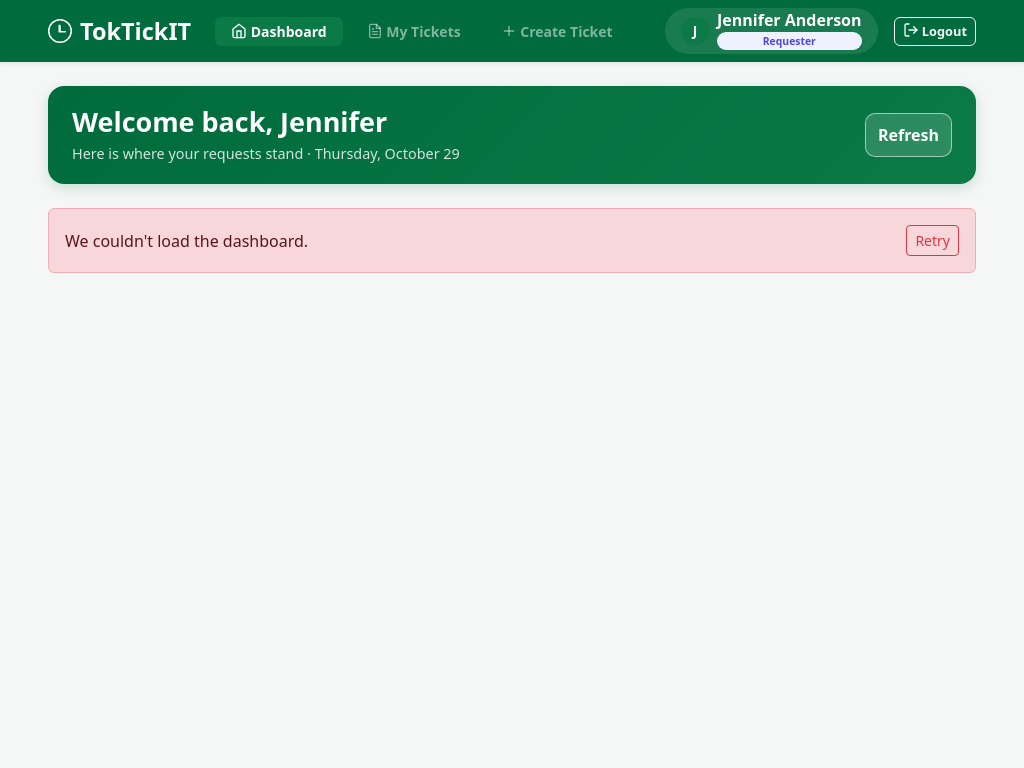
Scenario: Lab 2 UI Tests (Issue 3 & Issue 5 - Development Requester & Create Ticket) › UI-05: double-clicking Submit Ticket creates exactly one ticket (no duplicate request)
This screenshot has width=1024, height=768.
Check: the text "Jennifer Anderson" is shown, box [717,12,862,28]
Check: the button "Logout" is shown, box [894,17,976,46]
Click the button "My Tickets" at (414, 31), box [351,17,477,46]
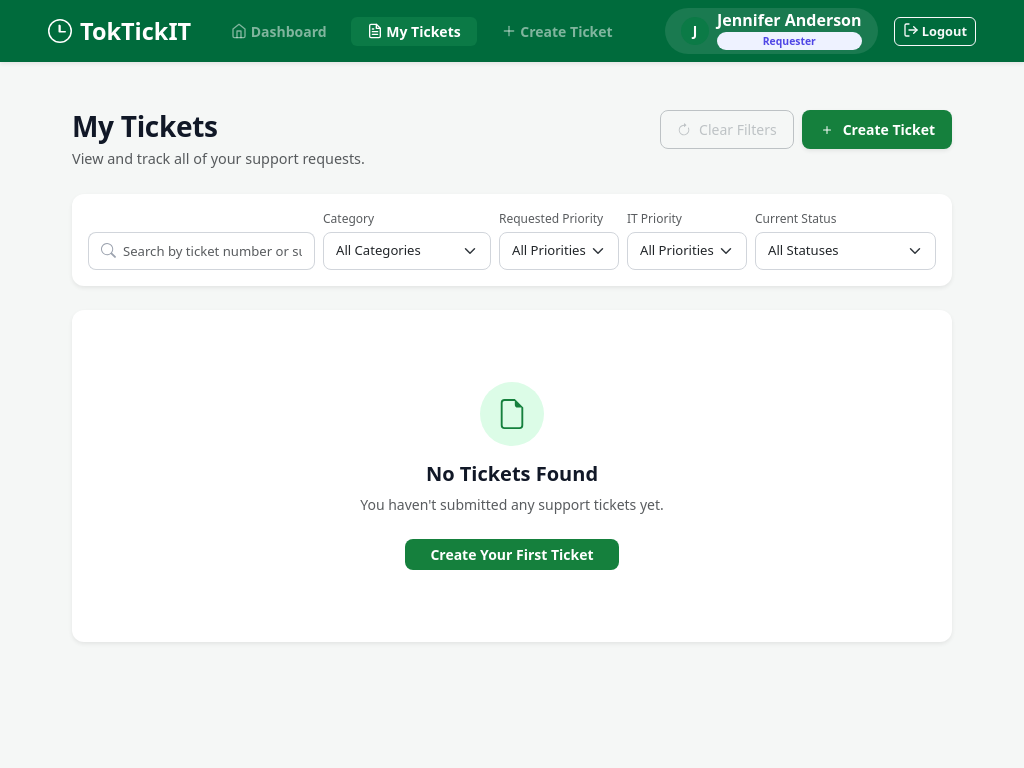
Check: the 2nd button "Create Ticket" is shown
Click the 2nd button "Create Ticket" at (877, 130), box [802,110,952,149]
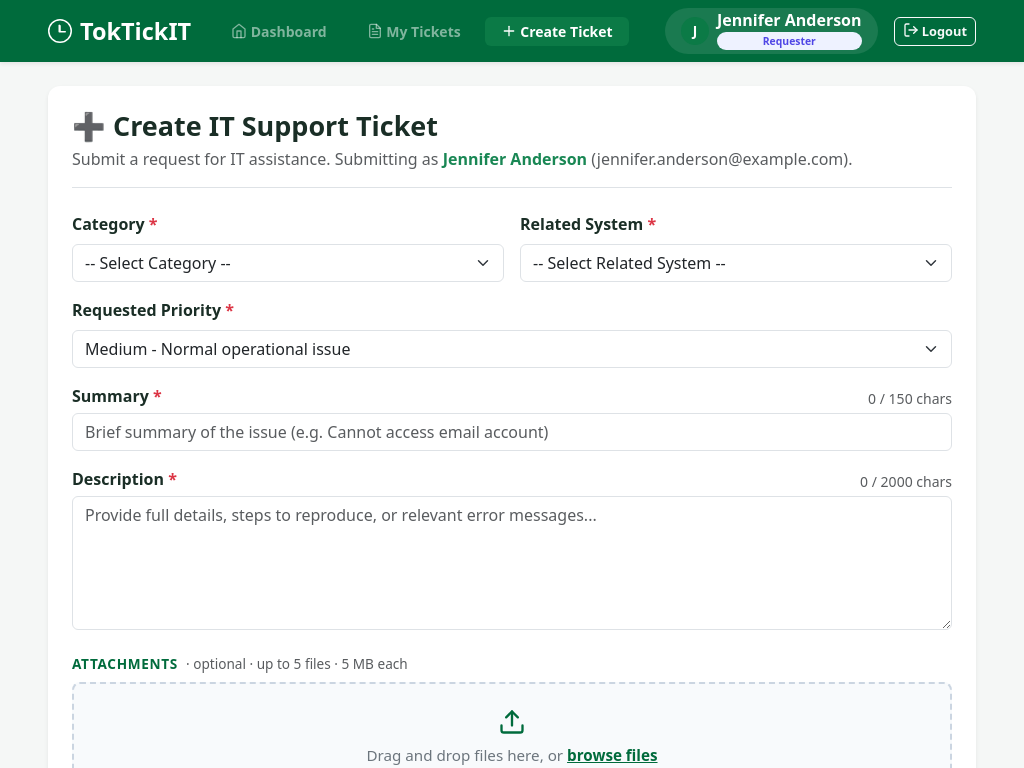
Check: the dropdown labelled "Category *" is shown
Select "Account and Access" in the dropdown labelled "Category *" at (288, 263), box [72,244,504,282]
Select "Email" in the dropdown labelled "Related System *" at (736, 263), box [520,244,952,282]
Replace the text in the field labelled "Summary *" with "Unable to connect to campus wifi" at (512, 432), box [72,413,952,451]
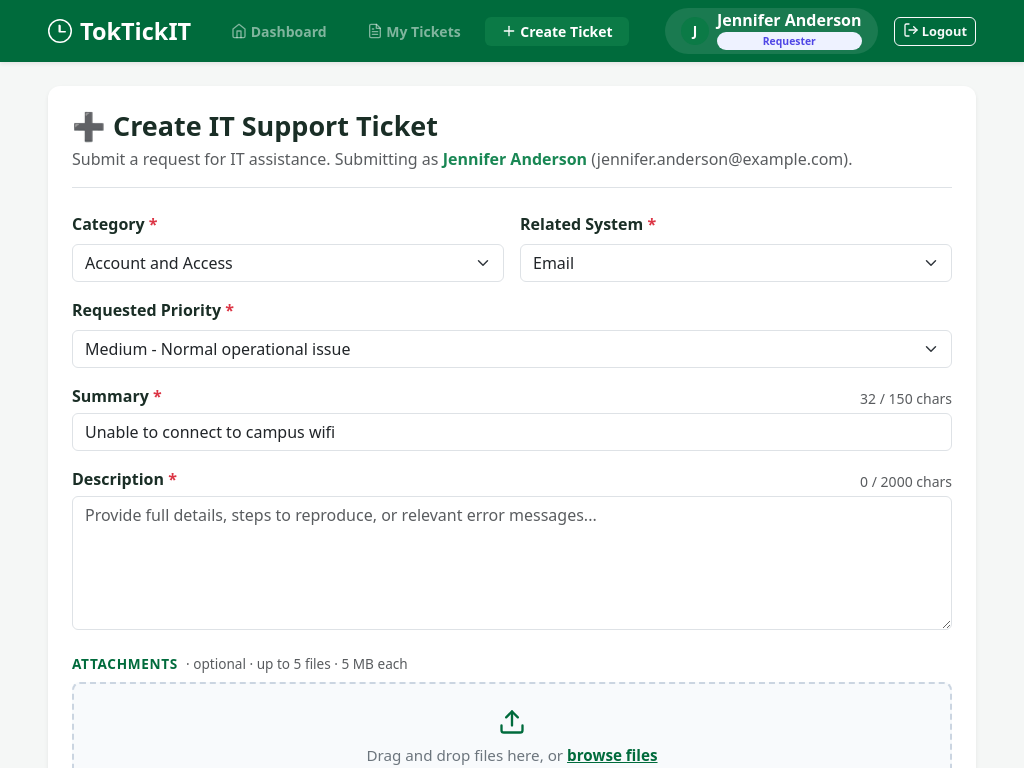
Replace the text in the text box labelled "Description *" with "Wi-Fi disconnects every 5 minutes in Library." at (512, 563), box [72,496,952,630]
(page scrolled)
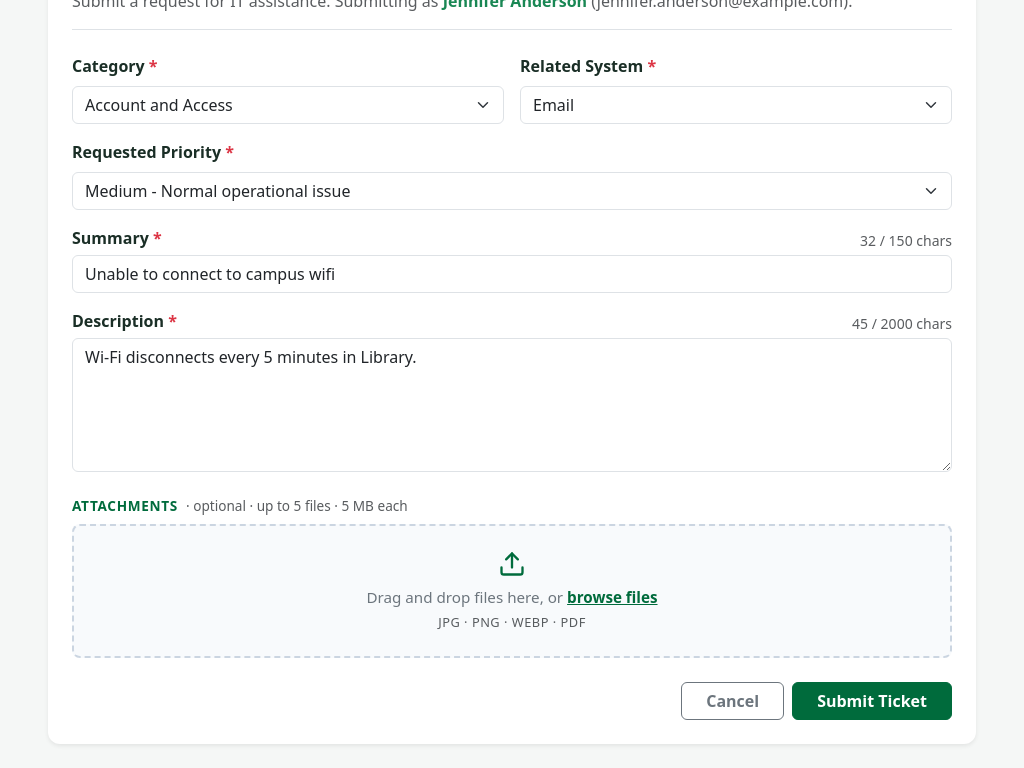
Click the button "Submit Ticket" at (872, 701), box [792,682,952,720]
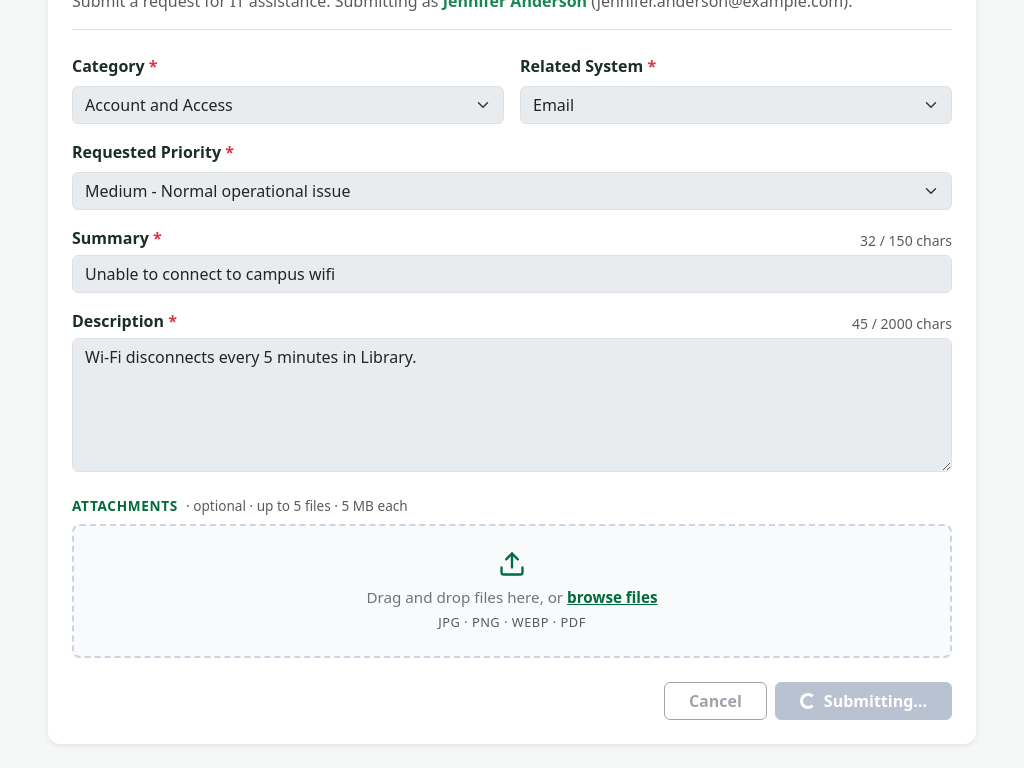
Click the button named "Submit Ticket" at (863, 701), box [775,682,952,720]
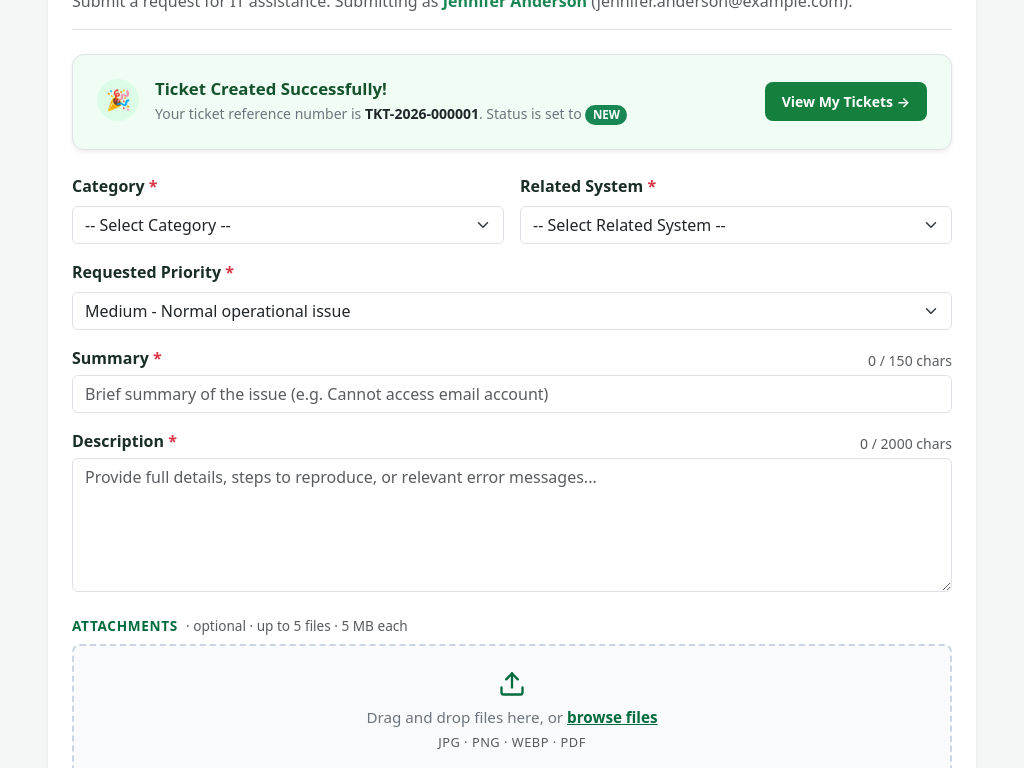
Check: the heading "Ticket Created Successfully!" is shown, box [155,77,387,100]
